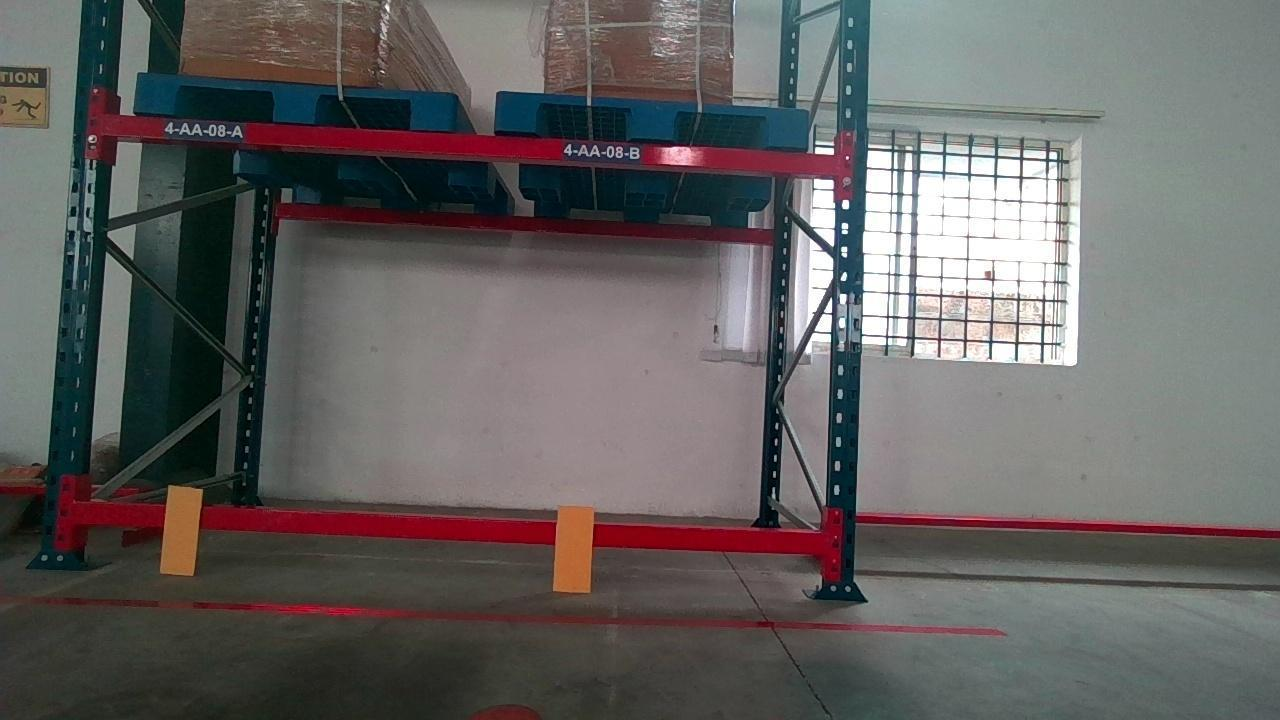h_rack: (104, 114, 838, 175), (62, 502, 824, 550)
orange_strip: (159, 486, 202, 574), (553, 505, 593, 591)
small_pallet: (503, 95, 811, 142), (133, 80, 453, 124)
